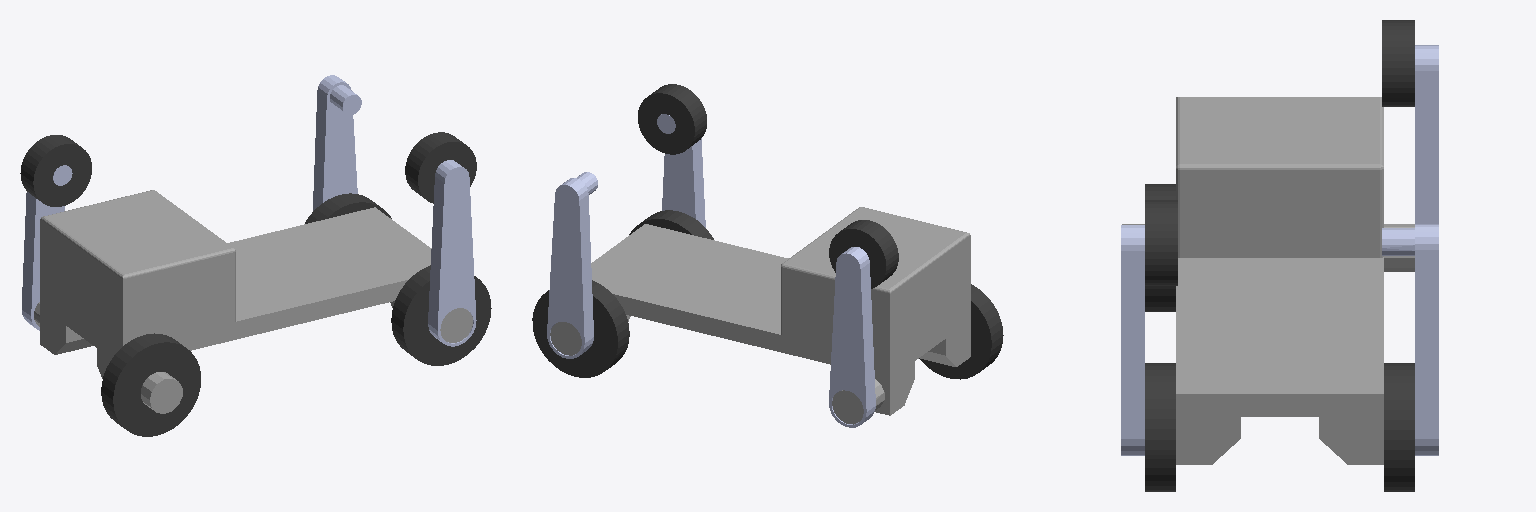
The robot description file, URDF, robot "PrimeChair":
<?xml version="1.0" encoding="utf-8"?>
<!-- This URDF was automatically created by SolidWorks to URDF Exporter! Originally created by [author] ([email redacted]) 
     Commit Version: 1.6.0-4-g7f85cfe  Build Version: 1.6.7995.38578
     For more information, please see http://wiki.ros.org/sw_urdf_exporter -->
<robot
  name="PrimeChair">
  <link
    name="base_link">
    <inertial>
      <origin
        xyz="-0.192036444194214 -9.55948096237336E-08 0.0914570973778513"
        rpy="0 0 0" />
      <mass
        value="157.597764258322" />
      <inertia
        ixx="6.37361221695308"
        ixy="-1.82329745952805E-06"
        ixz="2.88880190579742"
        iyy="22.9341950778055"
        iyz="2.24724981951229E-06"
        izz="25.4220678682299" />
    </inertial>
    <visual>
      <origin
        xyz="0 0 0"
        rpy="0 0 0" />
      <geometry>
        <mesh
          filename="package://PrimeChair/meshes/base_link.STL" />
      </geometry>
      <material
        name="">
        <color
          rgba="0.698039215686274 0.698039215686274 0.698039215686274 1" />
      </material>
    </visual>
    <collision>
      <origin
        xyz="0 0 0"
        rpy="0 0 0" />
      <geometry>
        <mesh
          filename="package://PrimeChair/meshes/base_link.STL" />
      </geometry>
    </collision>
  </link>
  <link
    name="LF">
    <inertial>
      <origin
        xyz="0 0 0.0375000000000001"
        rpy="0 0 0" />
      <mass
        value="6.32107714591448" />
      <inertia
        ixx="0.048351894425708"
        ixy="6.33495941251491E-19"
        ixz="8.44661255001988E-20"
        iyy="0.048351894425708"
        iyz="-4.22330627500996E-20"
        izz="0.0907777790271211" />
    </inertial>
    <visual>
      <origin
        xyz="0 0 0"
        rpy="0 0 0" />
      <geometry>
        <mesh
          filename="package://PrimeChair/meshes/LF.STL" />
      </geometry>
      <material
        name="">
        <color
          rgba="0.298039215686275 0.298039215686275 0.298039215686275 1" />
      </material>
    </visual>
    <collision>
      <origin
        xyz="0 0 0"
        rpy="0 0 0" />
      <geometry>
        <mesh
          filename="package://PrimeChair/meshes/LF.STL" />
      </geometry>
    </collision>
  </link>
  <joint
    name="LF_J"
    type="continuous">
    <origin
      xyz="0.5215 0.257 -0.065"
      rpy="-1.5707963267949 0 0" />
    <parent
      link="base_link" />
    <child
      link="LF" />
    <axis
      xyz="0 0 1" />
  </joint>
  <link
    name="LB">
    <inertial>
      <origin
        xyz="0 0 0.0375"
        rpy="0 0 0" />
      <mass
        value="6.32107714591448" />
      <inertia
        ixx="0.048351894425708"
        ixy="-2.06942007475487E-18"
        ixz="8.44661255001988E-20"
        iyy="0.048351894425708"
        iyz="-4.22330627500996E-20"
        izz="0.0907777790271211" />
    </inertial>
    <visual>
      <origin
        xyz="0 0 0"
        rpy="0 0 0" />
      <geometry>
        <mesh
          filename="package://PrimeChair/meshes/LB.STL" />
      </geometry>
      <material
        name="">
        <color
          rgba="0.298039215686275 0.298039215686275 0.298039215686275 1" />
      </material>
    </visual>
    <collision>
      <origin
        xyz="0 0 0"
        rpy="0 0 0" />
      <geometry>
        <mesh
          filename="package://PrimeChair/meshes/LB.STL" />
      </geometry>
    </collision>
  </link>
  <joint
    name="LB_J"
    type="continuous">
    <origin
      xyz="-0.5215 0.257 -0.0650000000000002"
      rpy="-1.5707963267949 0 0" />
    <parent
      link="base_link" />
    <child
      link="LB" />
    <axis
      xyz="0 0 1" />
  </joint>
  <link
    name="RF">
    <inertial>
      <origin
        xyz="0 1.38777878078145E-17 0.0375000000000001"
        rpy="0 0 0" />
      <mass
        value="6.32107714591448" />
      <inertia
        ixx="0.048351894425708"
        ixy="-1.45368476252277E-35"
        ixz="8.4466125500198E-20"
        iyy="0.048351894425708"
        iyz="-9.68935227477129E-35"
        izz="0.0907777790271211" />
    </inertial>
    <visual>
      <origin
        xyz="0 0 0"
        rpy="0 0 0" />
      <geometry>
        <mesh
          filename="package://PrimeChair/meshes/RF.STL" />
      </geometry>
      <material
        name="">
        <color
          rgba="0.298039215686275 0.298039215686275 0.298039215686275 1" />
      </material>
    </visual>
    <collision>
      <origin
        xyz="0 0 0"
        rpy="0 0 0" />
      <geometry>
        <mesh
          filename="package://PrimeChair/meshes/RF.STL" />
      </geometry>
    </collision>
  </link>
  <joint
    name="RF_J"
    type="continuous">
    <origin
      xyz="0.5215 -0.257 -0.065"
      rpy="1.5707963267949 0 0" />
    <parent
      link="base_link" />
    <child
      link="RF" />
    <axis
      xyz="0 0 1" />
  </joint>
  <link
    name="RB">
    <inertial>
      <origin
        xyz="0 0 0.0374999999999999"
        rpy="0 0 0" />
      <mass
        value="6.32107714591448" />
      <inertia
        ixx="0.048351894425708"
        ixy="5.42694856338777E-18"
        ixz="8.40794326924682E-18"
        iyy="0.0483518944257079"
        iyz="-7.88890775573904E-18"
        izz="0.0907777790271211" />
    </inertial>
    <visual>
      <origin
        xyz="0 0 0"
        rpy="0 0 0" />
      <geometry>
        <mesh
          filename="package://PrimeChair/meshes/RB.STL" />
      </geometry>
      <material
        name="">
        <color
          rgba="0.298039215686275 0.298039215686275 0.298039215686275 1" />
      </material>
    </visual>
    <collision>
      <origin
        xyz="0 0 0"
        rpy="0 0 0" />
      <geometry>
        <mesh
          filename="package://PrimeChair/meshes/RB.STL" />
      </geometry>
    </collision>
  </link>
  <joint
    name="RB_J"
    type="continuous">
    <origin
      xyz="-0.5215 -0.257 -0.0649999999999998"
      rpy="1.5707963267949 0 0" />
    <parent
      link="base_link" />
    <child
      link="RB" />
    <axis
      xyz="0 0 1" />
  </joint>
  <link
    name="NLF">
    <inertial>
      <origin
        xyz="0.00271571168468021 0.278470313824689 0.0242251960106987"
        rpy="0 0 0" />
      <mass
        value="3.73195794065969" />
      <inertia
        ixx="0.0978648811507753"
        ixy="-0.000889029991198783"
        ixz="4.65547571680366E-05"
        iyy="0.0067120107218082"
        iyz="0.00477374601720348"
        izz="0.099425765381797" />
    </inertial>
    <visual>
      <origin
        xyz="0 0 0"
        rpy="0 0 0" />
      <geometry>
        <mesh
          filename="package://PrimeChair/meshes/NLF.STL" />
      </geometry>
      <material
        name="">
        <color
          rgba="0.792156862745098 0.819607843137255 0.933333333333333 1" />
      </material>
    </visual>
    <collision>
      <origin
        xyz="0 0 0"
        rpy="0 0 0" />
      <geometry>
        <mesh
          filename="package://PrimeChair/meshes/NLF.STL" />
      </geometry>
    </collision>
  </link>
  <joint
    name="NLF_J"
    type="continuous">
    <origin
      xyz="0.5215 0.332 -0.065"
      rpy="1.5707963267949 0 3.14159265358979" />
    <parent
      link="base_link" />
    <child
      link="NLF" />
    <axis
      xyz="0 0 1" />
  </joint>
  <link
    name="SLF">
    <inertial>
      <origin
        xyz="1.11022302462516E-16 0 0.04"
        rpy="0 0 0" />
      <mass
        value="2.51603872440699" />
      <inertia
        ixx="0.00917997695589261"
        ixy="-1.4403692952685E-36"
        ixz="2.89120579329467E-19"
        iyy="0.00917997695589261"
        iyz="-2.56608446149947E-35"
        izz="0.0156761792724178" />
    </inertial>
    <visual>
      <origin
        xyz="0 0 0"
        rpy="0 0 0" />
      <geometry>
        <mesh
          filename="package://PrimeChair/meshes/SLF.STL" />
      </geometry>
      <material
        name="">
        <color
          rgba="0.298039215686275 0.298039215686275 0.298039215686275 1" />
      </material>
    </visual>
    <collision>
      <origin
        xyz="0 0 0"
        rpy="0 0 0" />
      <geometry>
        <mesh
          filename="package://PrimeChair/meshes/SLF.STL" />
      </geometry>
    </collision>
  </link>
  <joint
    name="SLF_J"
    type="continuous">
    <origin
      xyz="0.00487589236332042 0.499976225108416 0"
      rpy="3.14159265358979 0 3.14159265358979" />
    <parent
      link="NLF" />
    <child
      link="SLF" />
    <axis
      xyz="0 0 1" />
  </joint>
  <link
    name="NLB">
    <inertial>
      <origin
        xyz="0.00135737071007547 0.278480247623293 0.0242251960106988"
        rpy="0 0 0" />
      <mass
        value="3.73195794065969" />
      <inertia
        ixx="0.0978713852303183"
        ixy="-0.000444372031492282"
        ixz="2.32690620845553E-05"
        iyy="0.00670550664226537"
        iyz="0.00477391630979543"
        izz="0.0994257653817971" />
    </inertial>
    <visual>
      <origin
        xyz="0 0 0"
        rpy="0 0 0" />
      <geometry>
        <mesh
          filename="package://PrimeChair/meshes/NLB.STL" />
      </geometry>
      <material
        name="">
        <color
          rgba="0.792156862745098 0.819607843137255 0.933333333333333 1" />
      </material>
    </visual>
    <collision>
      <origin
        xyz="0 0 0"
        rpy="0 0 0" />
      <geometry>
        <mesh
          filename="package://PrimeChair/meshes/NLB.STL" />
      </geometry>
    </collision>
  </link>
  <joint
    name="NLB_J"
    type="continuous">
    <origin
      xyz="-0.5215 0.332 -0.0650000000000002"
      rpy="1.5707963267949 0 3.14159265358979" />
    <parent
      link="base_link" />
    <child
      link="NLB" />
    <axis
      xyz="0 0 1" />
  </joint>
  <link
    name="SLB">
    <inertial>
      <origin
        xyz="0 -5.55111512312578E-17 0.04"
        rpy="0 0 0" />
      <mass
        value="2.51603872440699" />
      <inertia
        ixx="0.00917997695589261"
        ixy="-1.4403692952685E-36"
        ixz="2.89120579329467E-19"
        iyy="0.00917997695589261"
        iyz="-2.56608446149947E-35"
        izz="0.0156761792724178" />
    </inertial>
    <visual>
      <origin
        xyz="0 0 0"
        rpy="0 0 0" />
      <geometry>
        <mesh
          filename="package://PrimeChair/meshes/SLB.STL" />
      </geometry>
      <material
        name="">
        <color
          rgba="0.298039215686275 0.298039215686275 0.298039215686275 1" />
      </material>
    </visual>
    <collision>
      <origin
        xyz="0 0 0"
        rpy="0 0 0" />
      <geometry>
        <mesh
          filename="package://PrimeChair/meshes/SLB.STL" />
      </geometry>
    </collision>
  </link>
  <joint
    name="SLB_J"
    type="continuous">
    <origin
      xyz="0.00243707515668445 0.499994060629405 0"
      rpy="3.14159265358979 0 3.14159265358979" />
    <parent
      link="NLB" />
    <child
      link="SLB" />
    <axis
      xyz="0 0 1" />
  </joint>
  <link
    name="NRF">
    <inertial>
      <origin
        xyz="0 0.278483555657377 0.0242251960106987"
        rpy="0 0 0" />
      <mass
        value="3.73195794065969" />
      <inertia
        ixx="0.0978735511921236"
        ixy="1.82511641073461E-18"
        ixz="4.94720732004158E-19"
        iyy="0.00670334068045991"
        iyz="0.00477397301858538"
        izz="0.099425765381797" />
    </inertial>
    <visual>
      <origin
        xyz="0 0 0"
        rpy="0 0 0" />
      <geometry>
        <mesh
          filename="package://PrimeChair/meshes/NRF.STL" />
      </geometry>
      <material
        name="">
        <color
          rgba="0.792156862745098 0.819607843137255 0.933333333333333 1" />
      </material>
    </visual>
    <collision>
      <origin
        xyz="0 0 0"
        rpy="0 0 0" />
      <geometry>
        <mesh
          filename="package://PrimeChair/meshes/NRF.STL" />
      </geometry>
    </collision>
  </link>
  <joint
    name="NRF_J"
    type="continuous">
    <origin
      xyz="0.5215 -0.332 -0.065"
      rpy="1.5707963267949 0 0" />
    <parent
      link="base_link" />
    <child
      link="NRF" />
    <axis
      xyz="0 0 1" />
  </joint>
  <link
    name="SRF">
    <inertial>
      <origin
        xyz="0 -5.55111512312578E-17 0.04"
        rpy="0 0 0" />
      <mass
        value="2.516038724407" />
      <inertia
        ixx="0.00917997695589263"
        ixy="-1.23949154614879E-18"
        ixz="2.89120579329468E-19"
        iyy="0.00917997695589263"
        iyz="-5.42101086242753E-20"
        izz="0.0156761792724178" />
    </inertial>
    <visual>
      <origin
        xyz="0 0 0"
        rpy="0 0 0" />
      <geometry>
        <mesh
          filename="package://PrimeChair/meshes/SRF.STL" />
      </geometry>
      <material
        name="">
        <color
          rgba="0.298039215686275 0.298039215686275 0.298039215686275 1" />
      </material>
    </visual>
    <collision>
      <origin
        xyz="0 0 0"
        rpy="0 0 0" />
      <geometry>
        <mesh
          filename="package://PrimeChair/meshes/SRF.STL" />
      </geometry>
    </collision>
  </link>
  <joint
    name="SRF_J"
    type="continuous">
    <origin
      xyz="0 0.5 0"
      rpy="3.14159265358979 0 3.14159265358979" />
    <parent
      link="NRF" />
    <child
      link="SRF" />
    <axis
      xyz="0 0 1" />
  </joint>
  <link
    name="NRB">
    <inertial>
      <origin
        xyz="0 0.278483555657377 0.0242251960106987"
        rpy="0 0 0" />
      <mass
        value="3.73195794065969" />
      <inertia
        ixx="0.0978735511921237"
        ixy="-1.46394839361544E-18"
        ixz="8.57883002614217E-19"
        iyy="0.00670334068045991"
        iyz="0.00477397301858539"
        izz="0.099425765381797" />
    </inertial>
    <visual>
      <origin
        xyz="0 0 0"
        rpy="0 0 0" />
      <geometry>
        <mesh
          filename="package://PrimeChair/meshes/NRB.STL" />
      </geometry>
      <material
        name="">
        <color
          rgba="0.792156862745098 0.819607843137255 0.933333333333333 1" />
      </material>
    </visual>
    <collision>
      <origin
        xyz="0 0 0"
        rpy="0 0 0" />
      <geometry>
        <mesh
          filename="package://PrimeChair/meshes/NRB.STL" />
      </geometry>
    </collision>
  </link>
  <joint
    name="NRB_J"
    type="continuous">
    <origin
      xyz="-0.5215 -0.332 -0.065"
      rpy="1.5707963267949 0 0" />
    <parent
      link="base_link" />
    <child
      link="NRB" />
    <axis
      xyz="0 0 1" />
  </joint>
  <link
    name="SRB">
    <inertial>
      <origin
        xyz="0 -5.55111512312578E-17 0.04"
        rpy="0 0 0" />
      <mass
        value="2.516038724407" />
      <inertia
        ixx="0.00917997695589263"
        ixy="-1.23949154614879E-18"
        ixz="-2.89120579329468E-19"
        iyy="0.00917997695589263"
        iyz="9.03501810404587E-20"
        izz="0.0156761792724178" />
    </inertial>
    <visual>
      <origin
        xyz="0 0 0"
        rpy="0 0 0" />
      <geometry>
        <mesh
          filename="package://PrimeChair/meshes/SRB.STL" />
      </geometry>
      <material
        name="">
        <color
          rgba="0.298039215686275 0.298039215686275 0.298039215686275 1" />
      </material>
    </visual>
    <collision>
      <origin
        xyz="0 0 0"
        rpy="0 0 0" />
      <geometry>
        <mesh
          filename="package://PrimeChair/meshes/SRB.STL" />
      </geometry>
    </collision>
  </link>
  <joint
    name="SRB_J"
    type="continuous">
    <origin
      xyz="0 0.5 0"
      rpy="3.14159265358979 0 3.14159265358979" />
    <parent
      link="NRB" />
    <child
      link="SRB" />
    <axis
      xyz="0 0 1" />
  </joint>
</robot>

--- Facts derived from the render (not from the file) ---
3 views of the same robot in one strip: view 1: azimuth 30°, elevation 25°; view 2: azimuth 150°, elevation 25°; view 3: azimuth 270°, elevation 25° (orthographic).
Robot: PrimeChair — 13 links, 12 joints (12 continuous); root link base_link; default pose: all joints at 0.
Visible links, largest first — view 1: base_link, RB, NRF, NLF, RF, SLB, SRF, NLB, LF; view 2: base_link, NLF, NLB, LF, SRF, NRF, RB, SLB, RF; view 3: base_link, NLF, NRF, NLB, LF, RF, SLB, SRF, RB.
Boxes of the visible links, box(x1,y1,x2,y2) form: base_link: box(34, 190, 472, 413); RB: box(101, 333, 200, 436); NRF: box(428, 160, 476, 346); NLF: box(313, 75, 361, 210); RF: box(391, 265, 491, 365); SLB: box(20, 135, 91, 206); SRF: box(405, 132, 476, 203); NLB: box(22, 165, 72, 330); LF: box(305, 193, 391, 223); base_link: box(550, 207, 970, 424); NLF: box(547, 172, 597, 358); NLB: box(829, 247, 875, 427); LF: box(532, 280, 629, 377); SRF: box(638, 84, 706, 154); NRF: box(657, 114, 705, 227); RB: box(919, 284, 1003, 379); SLB: box(829, 220, 898, 288); RF: box(629, 210, 713, 239); base_link: box(1122, 97, 1414, 464); NLF: box(1382, 224, 1438, 455); NRF: box(1121, 225, 1144, 455); NLB: box(1415, 45, 1438, 223); LF: box(1384, 363, 1414, 491); RF: box(1145, 363, 1175, 491); SLB: box(1382, 20, 1414, 106); SRF: box(1145, 200, 1177, 285); RB: box(1145, 184, 1175, 311).
Bounding box of the posed robot: 1.36 × 0.784 × 0.7644 m (x, y, z).
9 mesh visuals loaded from 13 distinct referenced files (9 binary STL); not drawn: 4 (reference not matched to a file when rendering).
